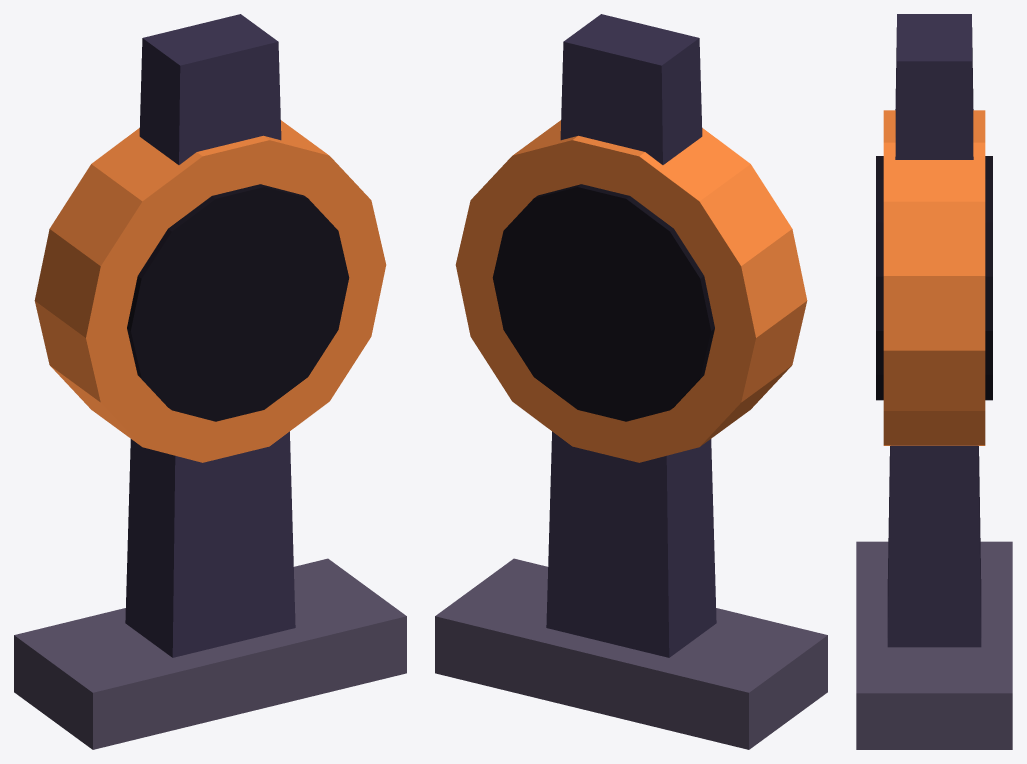
The model's file is env_r16_eclipse_monolith.glb.
The picture shows the model from 3 angles, left to right: view 1: azimuth 30°, elevation 25°; view 2: azimuth 150°, elevation 25°; view 3: azimuth 270°, elevation 25°; orthographic projection.
Parts seen in each view (by area): view 1: env_r16_eclipse_monolith; view 2: env_r16_eclipse_monolith; view 3: env_r16_eclipse_monolith.
Part boxes in pixels (x1,y1,x2,y2): env_r16_eclipse_monolith: (14,14,406,749); env_r16_eclipse_monolith: (435,14,827,749); env_r16_eclipse_monolith: (856,14,1012,749).
Bounding box in the file's own units: 4.6 × 9 × 2.
1 material, 1 textured.
